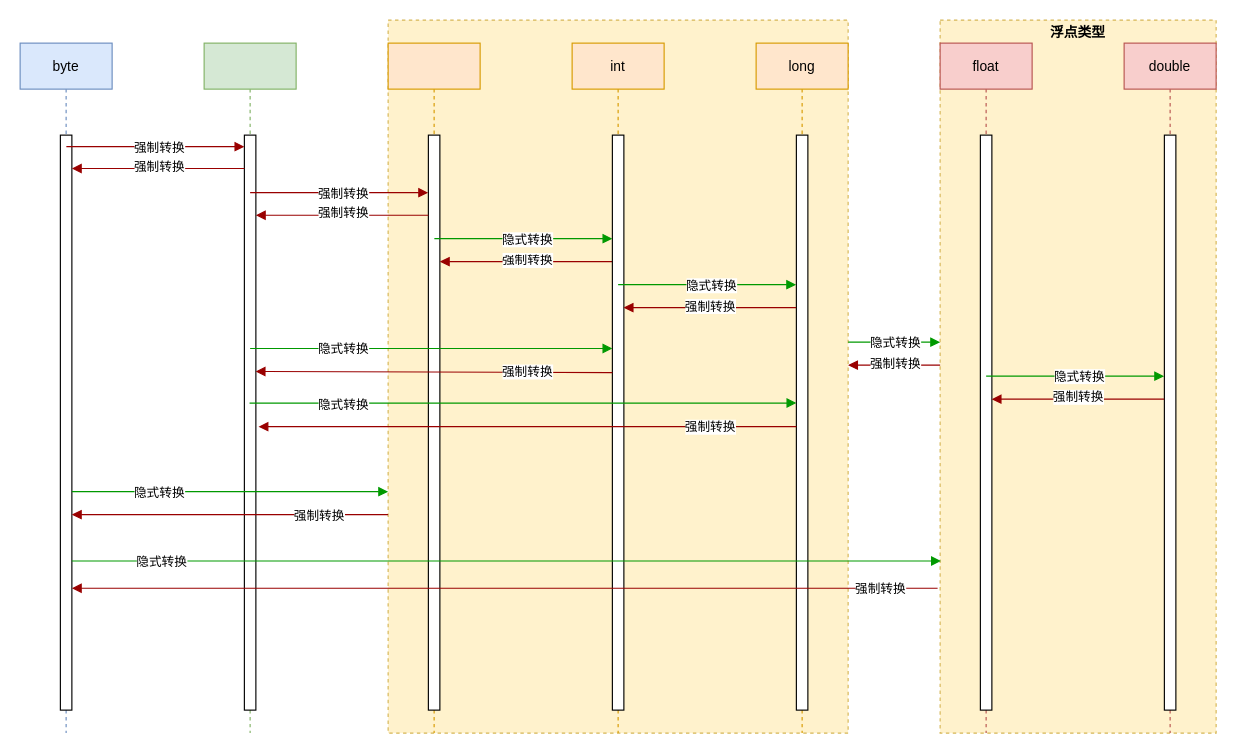
The diagram is 1236 pixels wide and 753 high, and some of its shapes have lost their labels. The shapes that lost their labels are listed below. From the top down, each one's box as (x1, y1, x2, y2) in pixels, then its label:
(203, 42, 296, 733): char
(387, 42, 480, 733): short
(387, 19, 848, 733): 整数类型
